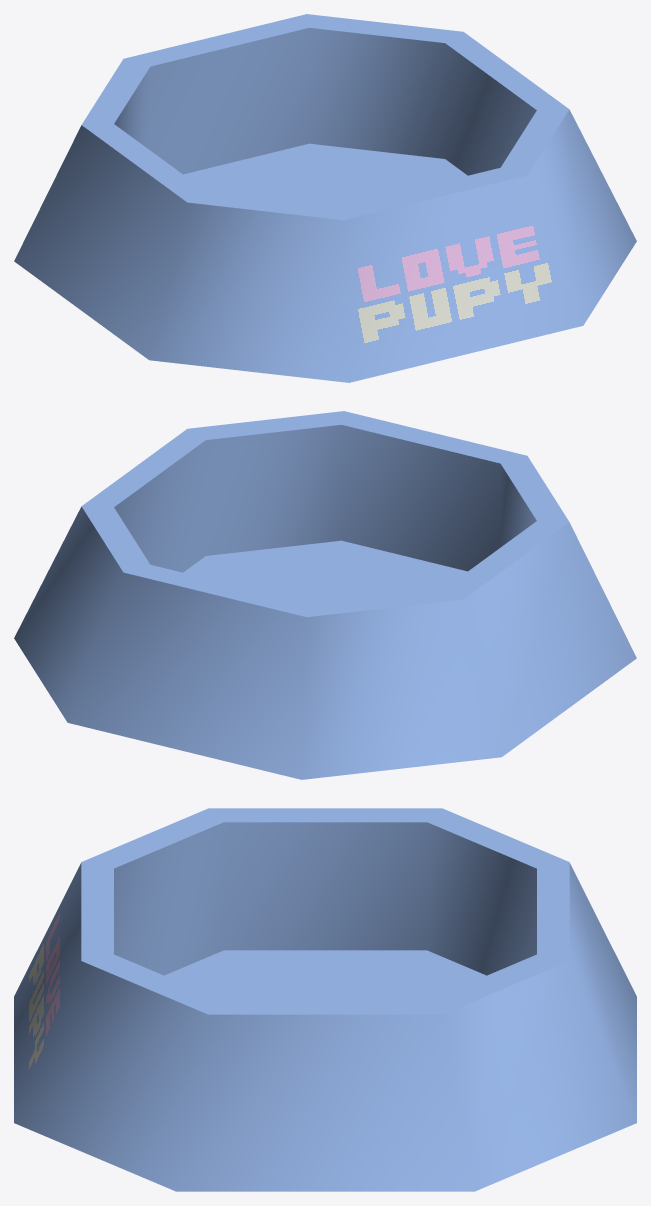
The model's file is 0026_Dogfood_Bowl.glb.
The picture shows the model from 3 angles, top to bottom: view 1: azimuth 30°, elevation 25°; view 2: azimuth 150°, elevation 25°; view 3: azimuth 270°, elevation 25°; orthographic projection. The views are drawn at different scales.
Visible parts, largest first — view 1: part_0; view 2: part_0; view 3: part_0.
Part boxes in pixels (x1=…): part_0: x1=14, y1=14, x2=636, y2=382; part_0: x1=14, y1=411, x2=636, y2=779; part_0: x1=14, y1=808, x2=636, y2=1191.
Size of the model in its own units: 0.2 by 0.0526 by 0.2.
1 material, 1 textured.
